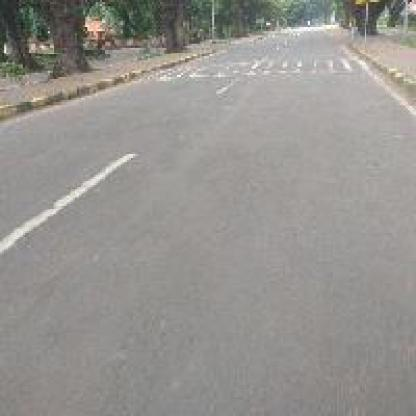Speed Bump: (144, 56, 366, 81)
